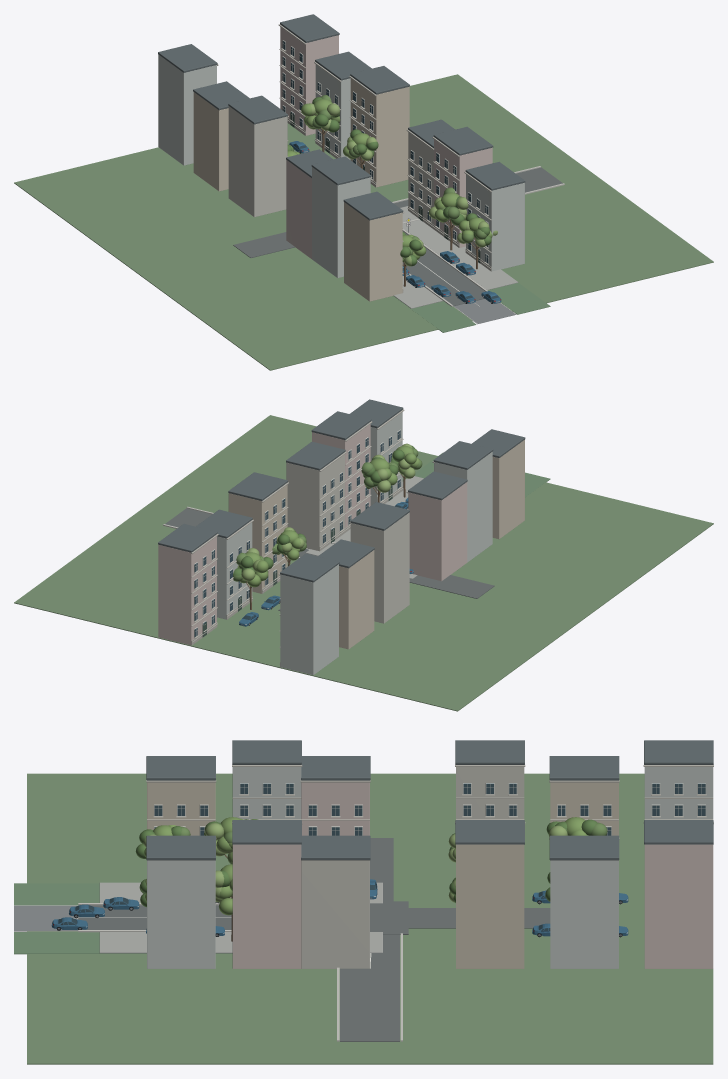
Rendered from world.glb.
The picture shows the model from 3 angles, top to bottom: view 1: azimuth 30°, elevation 25°; view 2: azimuth 150°, elevation 25°; view 3: azimuth 270°, elevation 25°; orthographic projection. The views are drawn at different scales.
Visible parts, largest first — view 1: GROUND, FK_RES_FACADE_-1_3_MASS, FK_RES_FACADE_-1_0_MASS, FK_RES_FACADE_1_3_MASS, FK_RES_FACADE_-1_5_MASS, FK_RES_FACADE_1_0_MASS, FK_RES_FACADE_-1_1_MASS, FK_RES_FACADE_-1_4_MASS, FK_RES_FACADE_1_5_MASS, FK_RES_FACADE_-1_2_MASS, FK_RES_SIDEWALK_1, FK_RES_FACADE_1_1_MASS (+21 smaller); view 2: GROUND, FK_RES_FACADE_-1_5_MASS, FK_RES_FACADE_1_5_MASS, FK_RES_FACADE_-1_2_MASS, FK_RES_FACADE_1_2_MASS, FK_RES_FACADE_-1_3_MASS, FK_RES_FACADE_-1_4_MASS, FK_RES_FACADE_-1_1_MASS, FK_RES_FACADE_-1_0_MASS, FK_RES_FACADE_1_3_MASS, FK_RES_FACADE_1_4_MASS, FK_RES_FACADE_1_1_MASS (+16 smaller); view 3: GROUND, FK_RES_FACADE_1_5_MASS, FK_RES_FACADE_1_1_MASS, FK_RES_FACADE_1_3_MASS, FK_RES_FACADE_1_0_MASS, FK_RES_FACADE_1_4_MASS, FK_RES_FACADE_1_2_MASS, ROAD_MAIN_EAST, FK_RES_FACADE_-1_2_MASS, FK_RES_FACADE_-1_5_MASS, FK_RES_FACADE_-1_1_MASS, FK_RES_FACADE_-1_3_MASS (+23 smaller).
Part boxes in pixels (x1,y1,x2,y2): GROUND: [14, 74, 713, 370]; FK_RES_FACADE_-1_3_MASS: [228, 106, 287, 217]; FK_RES_FACADE_-1_0_MASS: [344, 202, 402, 301]; FK_RES_FACADE_1_3_MASS: [350, 78, 409, 187]; FK_RES_FACADE_-1_5_MASS: [158, 54, 216, 165]; FK_RES_FACADE_1_0_MASS: [466, 174, 524, 271]; FK_RES_FACADE_-1_1_MASS: [312, 167, 370, 278]; FK_RES_FACADE_-1_4_MASS: [193, 92, 228, 191]; FK_RES_FACADE_1_5_MASS: [280, 27, 338, 135]; FK_RES_FACADE_-1_2_MASS: [286, 160, 311, 258]; FK_RES_SIDEWALK_1: [400, 206, 518, 290]; FK_RES_FACADE_1_1_MASS: [434, 139, 492, 247]; GROUND: [14, 415, 713, 711]; FK_RES_FACADE_-1_5_MASS: [280, 564, 338, 675]; FK_RES_FACADE_1_5_MASS: [158, 536, 216, 645]; FK_RES_FACADE_-1_2_MASS: [408, 482, 467, 581]; FK_RES_FACADE_1_2_MASS: [286, 454, 344, 551]; FK_RES_FACADE_-1_3_MASS: [350, 512, 409, 623]; FK_RES_FACADE_-1_4_MASS: [339, 550, 374, 649]; FK_RES_FACADE_-1_1_MASS: [434, 452, 492, 562]; FK_RES_FACADE_-1_0_MASS: [492, 440, 524, 539]; FK_RES_FACADE_1_3_MASS: [228, 485, 287, 593]; FK_RES_FACADE_1_4_MASS: [217, 522, 252, 619]; FK_RES_FACADE_1_1_MASS: [312, 424, 370, 527]; GROUND: [27, 773, 713, 1064]; FK_RES_FACADE_1_5_MASS: [644, 844, 713, 968]; FK_RES_FACADE_1_1_MASS: [232, 844, 301, 968]; FK_RES_FACADE_1_3_MASS: [456, 844, 524, 968]; FK_RES_FACADE_1_0_MASS: [147, 860, 215, 968]; FK_RES_FACADE_1_4_MASS: [550, 860, 618, 968]; FK_RES_FACADE_1_2_MASS: [301, 860, 369, 968]; ROAD_MAIN_EAST: [340, 934, 399, 1041]; FK_RES_FACADE_-1_2_MASS: [301, 782, 369, 835]; FK_RES_FACADE_-1_5_MASS: [644, 767, 713, 819]; FK_RES_FACADE_-1_1_MASS: [232, 767, 301, 819]; FK_RES_FACADE_-1_3_MASS: [456, 767, 524, 819].
Size of the model in its own units: 80 by 16.53 by 81.59.
31 materials, 2 textured.
